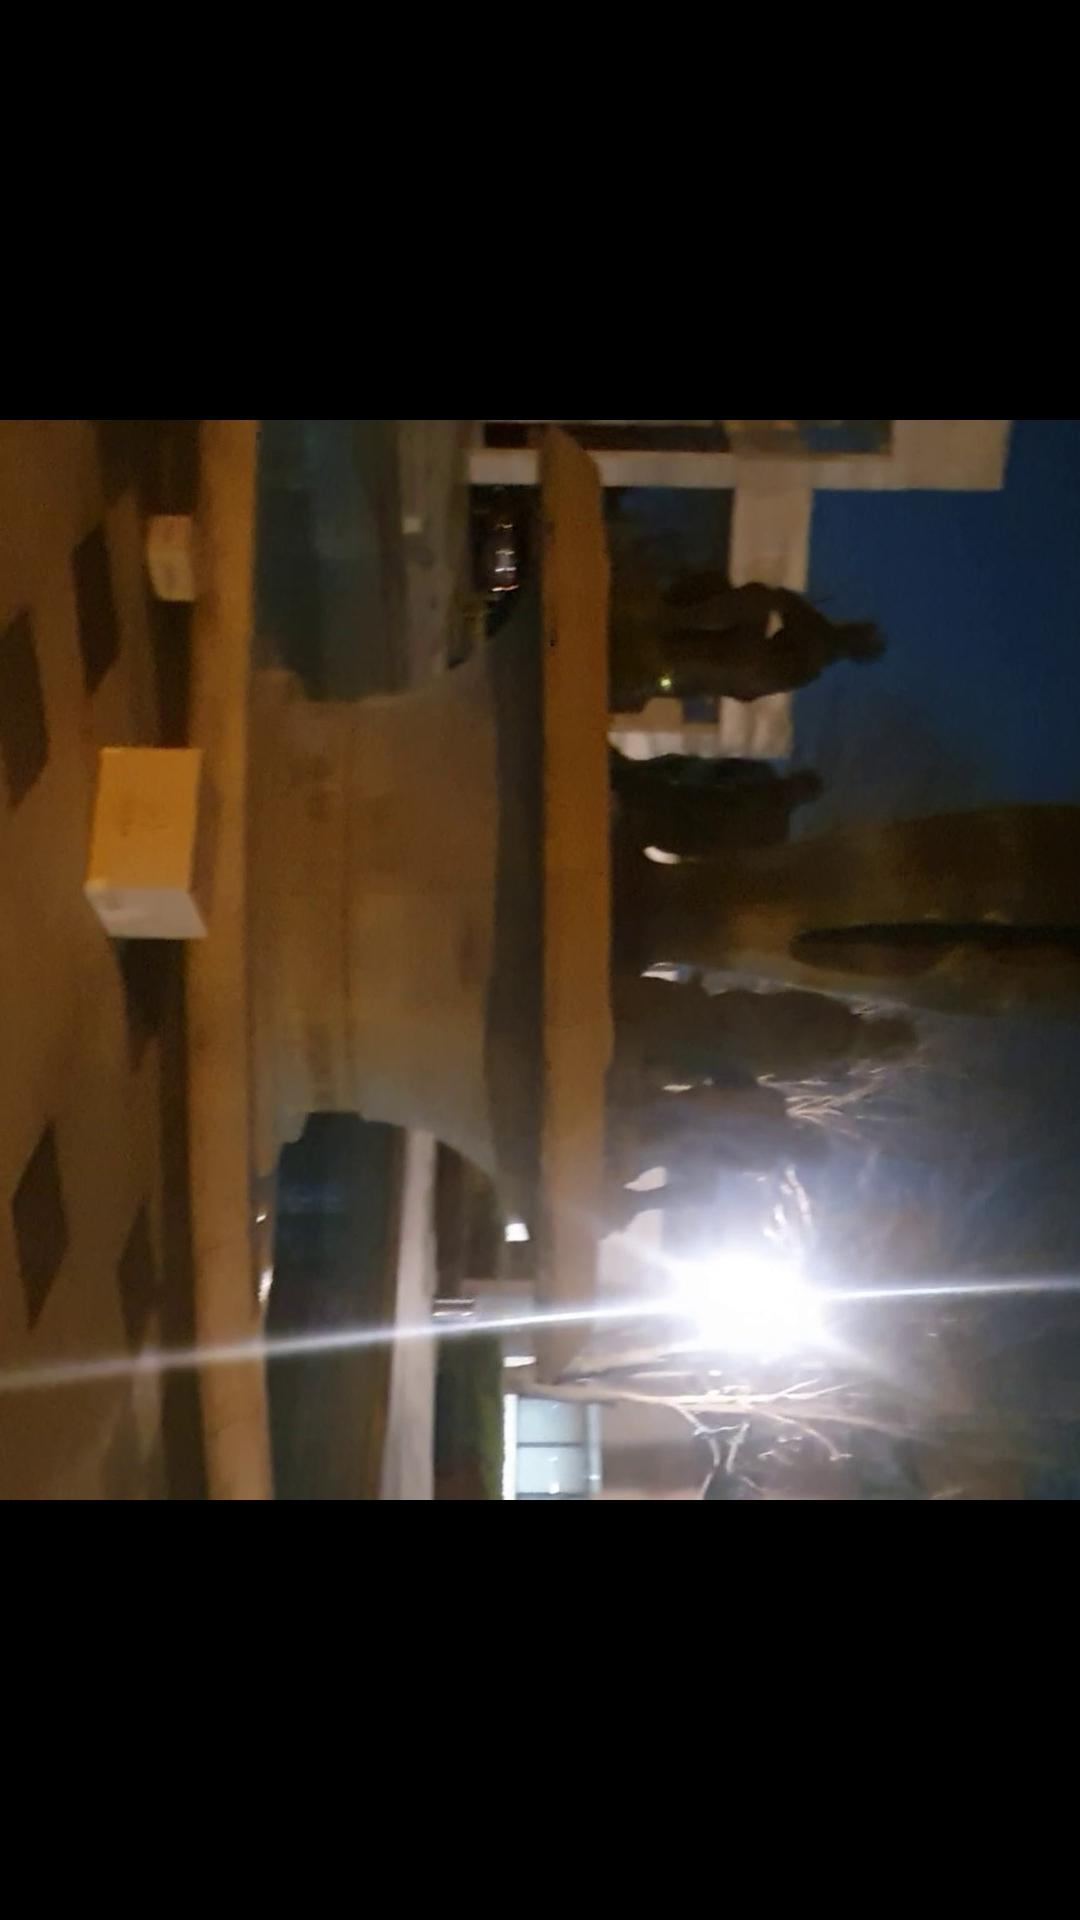Box: (80, 738, 227, 960), (135, 502, 212, 615)
